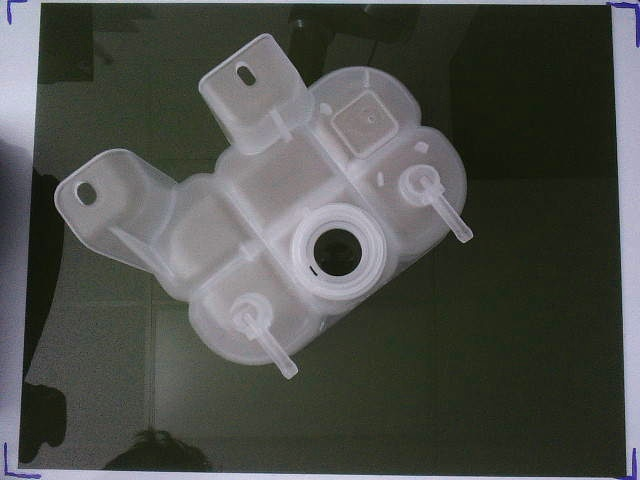reservoir_transparent_Top: (54, 33, 474, 379)
